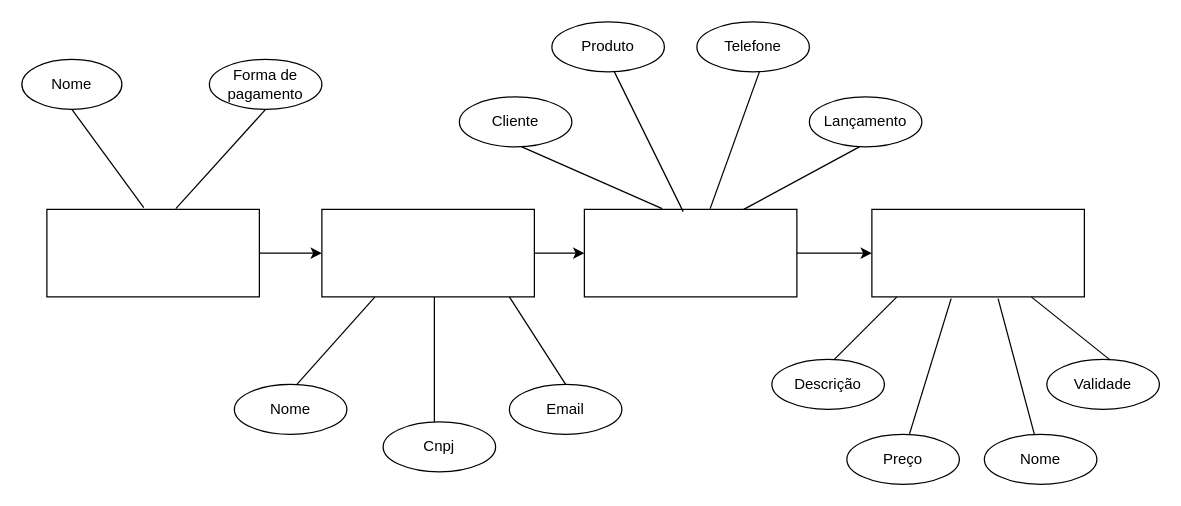
Some shapes in this 1181 by 506 pixel diagram are drawn without their labels. Each missing label, with the centre of its shape:
"Clientes" belongs at point (152, 252).
"Fornecedores" belongs at point (427, 252).
"Pedidos" belongs at point (690, 252).
"Produtos" belongs at point (977, 252).
